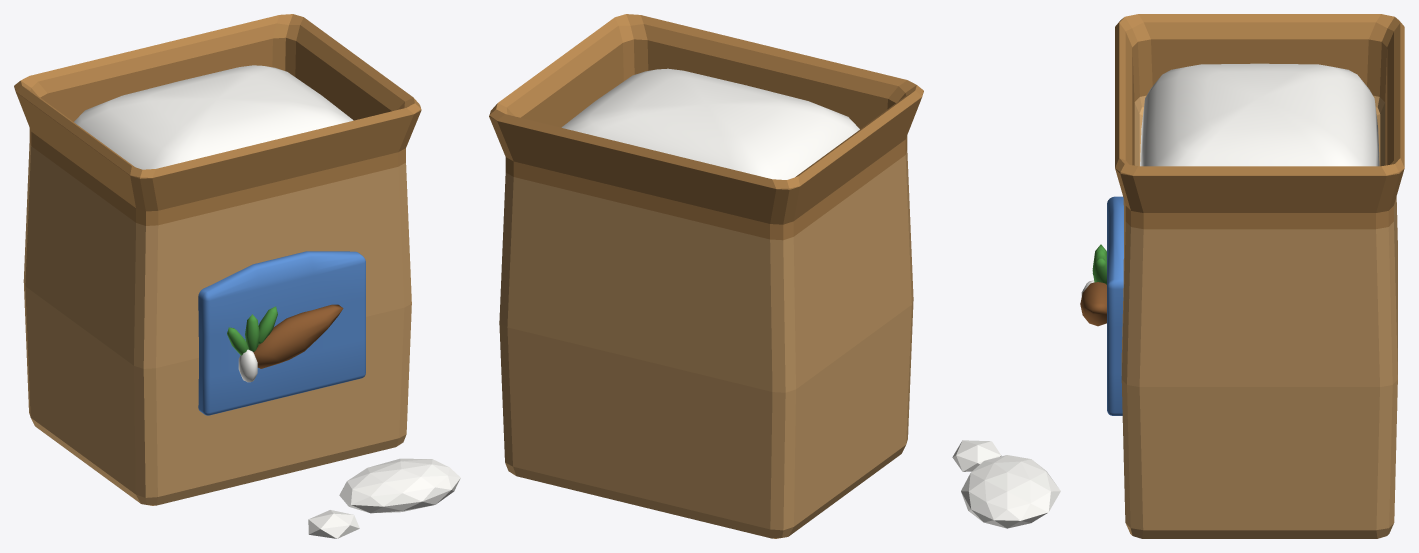
File: polvilho.glb
3 renders of one model, left to right at view 1: azimuth 30°, elevation 25°; view 2: azimuth 150°, elevation 25°; view 3: azimuth 270°, elevation 25°, orthographic. The views are drawn at different scales.
Visible parts, largest first — view 1: polvilho; view 2: polvilho; view 3: polvilho.
Boxes of the visible parts, x1,y1,x2,y2 form: polvilho: (14,14,460,538); polvilho: (489,14,923,538); polvilho: (952,14,1404,538).
Size of the model in its own units: 0.1251 by 0.1428 by 0.1527.
